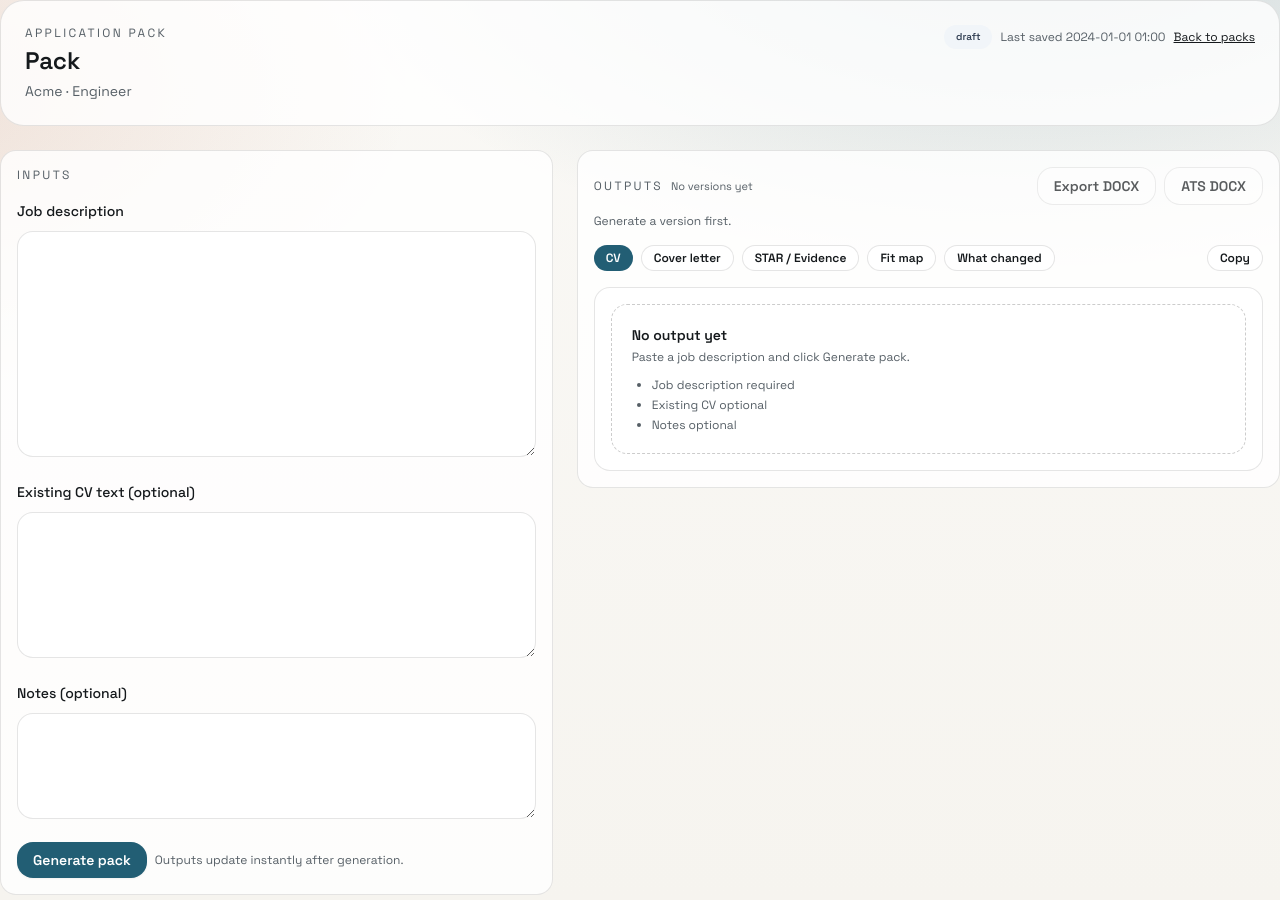
Test case: pack detail UI › generates a new version and enables export
This screenshot has width=1280, height=900.
Step 1. Type "JD" into the text box labelled "Job description" → (276, 344), box top-left (17, 231), bottom-right (536, 457)
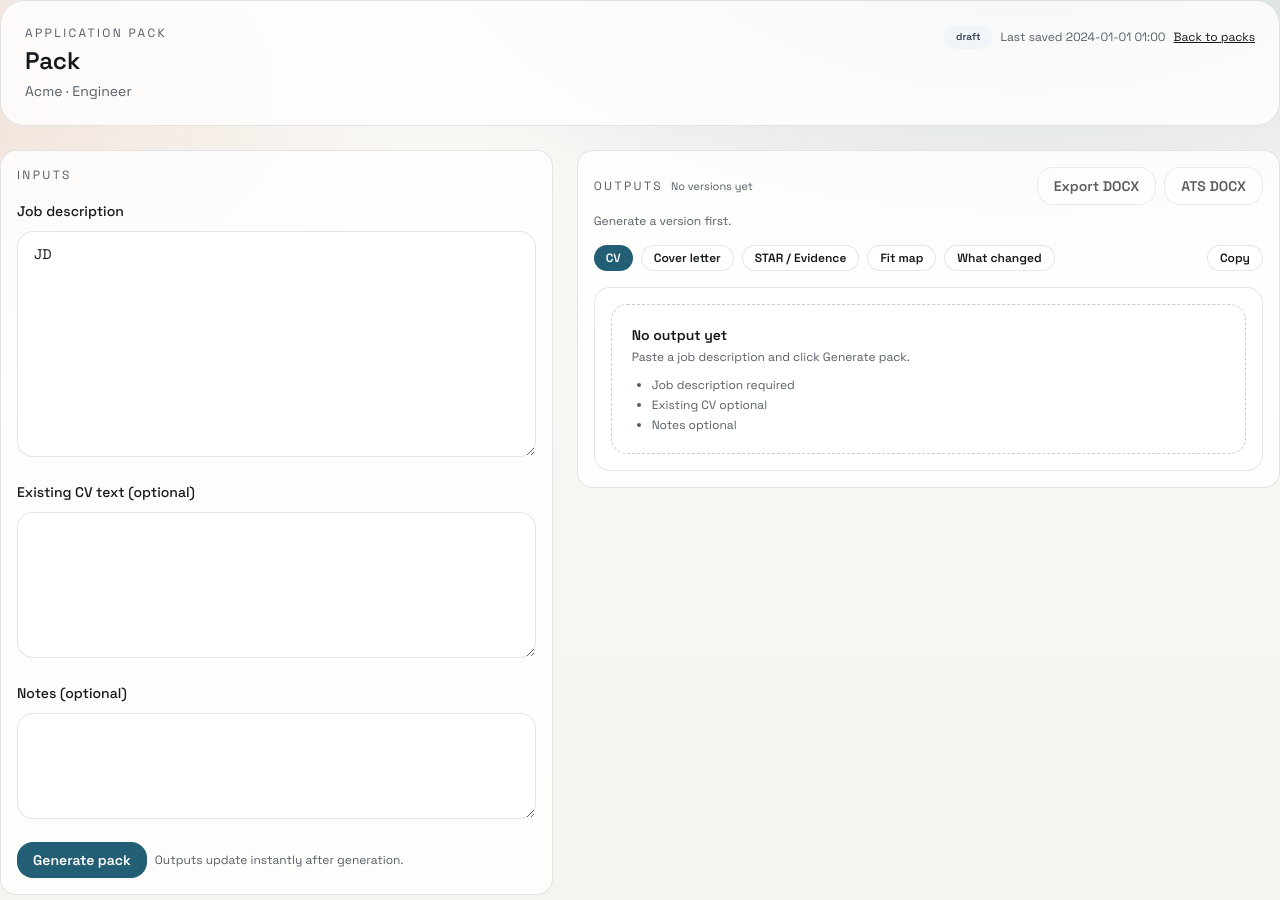
Step 2. Click the button "Generate pack" → (82, 860), box top-left (17, 842), bottom-right (147, 878)
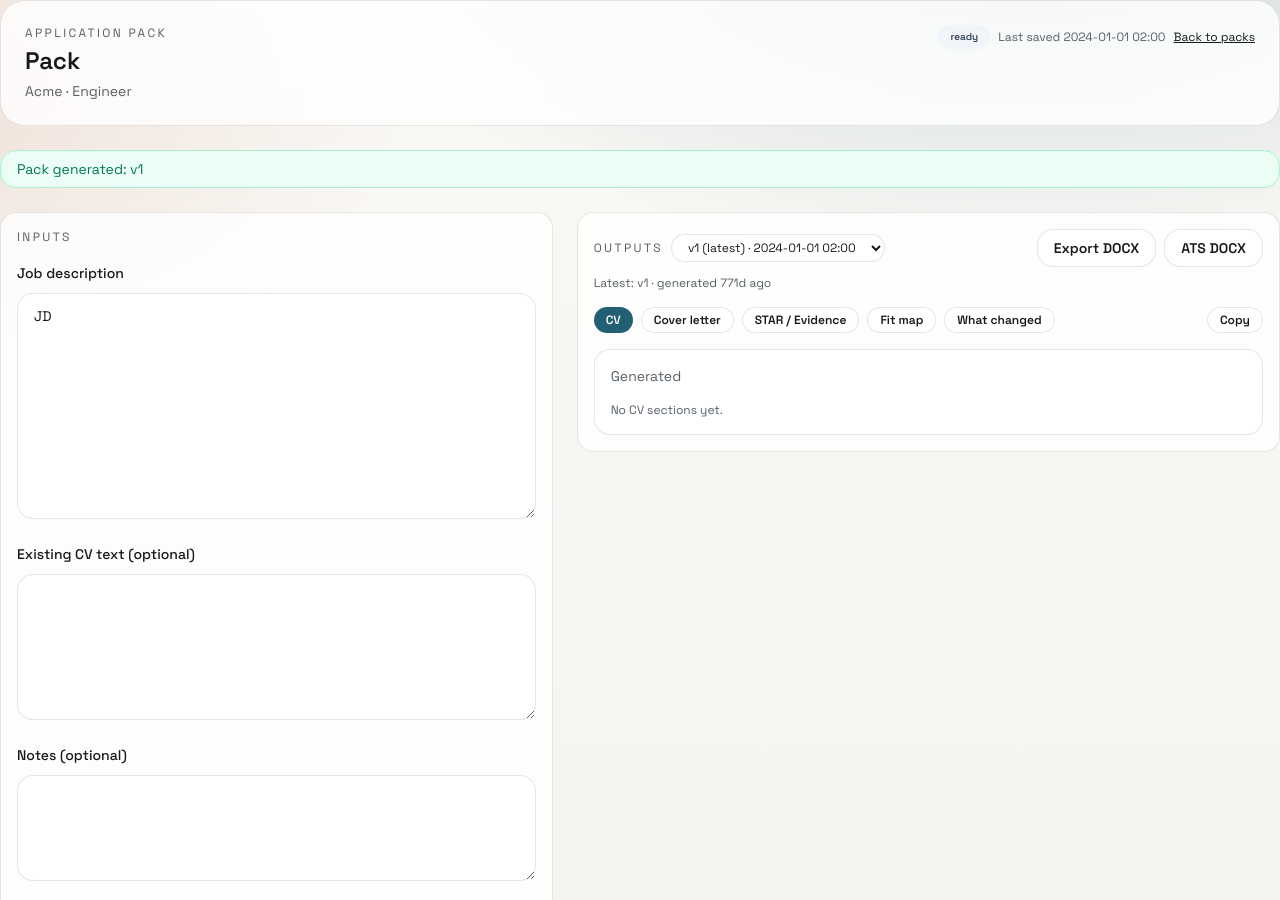
expect the text "Pack generated: v1" is shown: met, box top-left (0, 150), bottom-right (1279, 188)
expect the button "Export DOCX" is enabled: met, box top-left (1037, 229), bottom-right (1156, 267)
